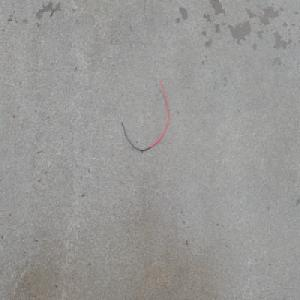Wire: (116, 71, 170, 152)
